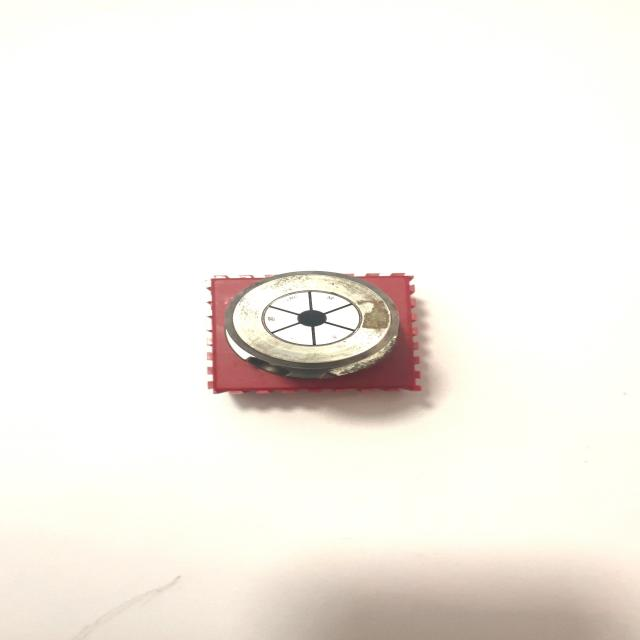Filled_Slot: (224, 271, 399, 379)
